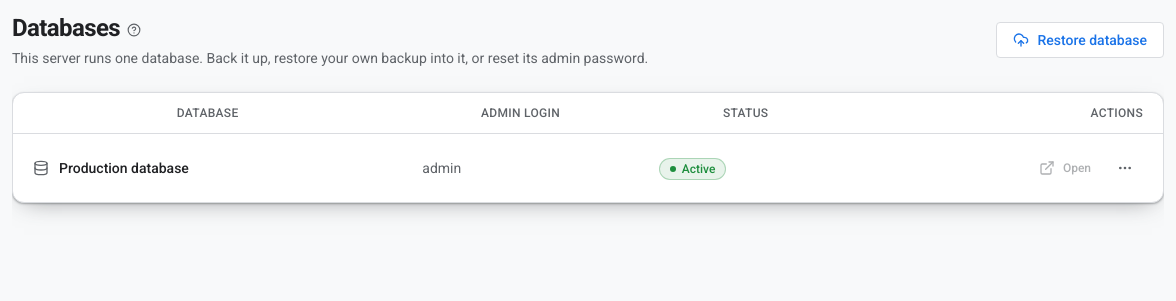
Test: Databases › offers no create, duplicate or delete: the database is managed like Odoo.sh
This screenshot has width=1176, height=301.
Expected: the text "Production database" is shown, [59,158,189,178]
Step 1. Click the button named "more actions" → point(1125, 168), box [1107,150,1143,186]
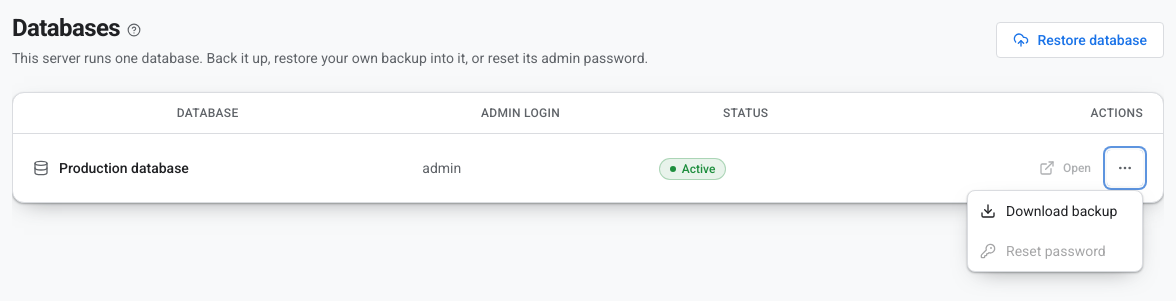
Expected: the button "Download backup" is shown, [968,191,1142,231]
Expected: the button "Reset password" is shown, [968,231,1142,271]
